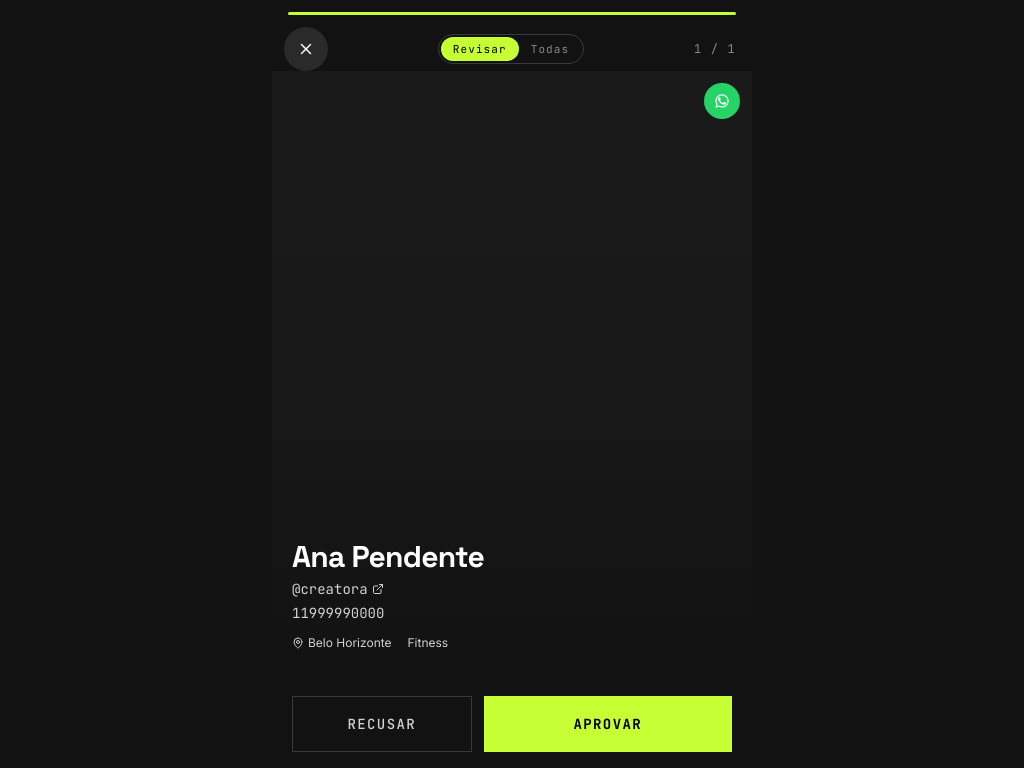
it: CampaignPipelineMobileStory — modo "Todas" (paridade com o desktop) › lista toda candidatura com o rótulo de status em português
Step 1. Click the button "Todas" → (550, 49), box [519,37,581,61]
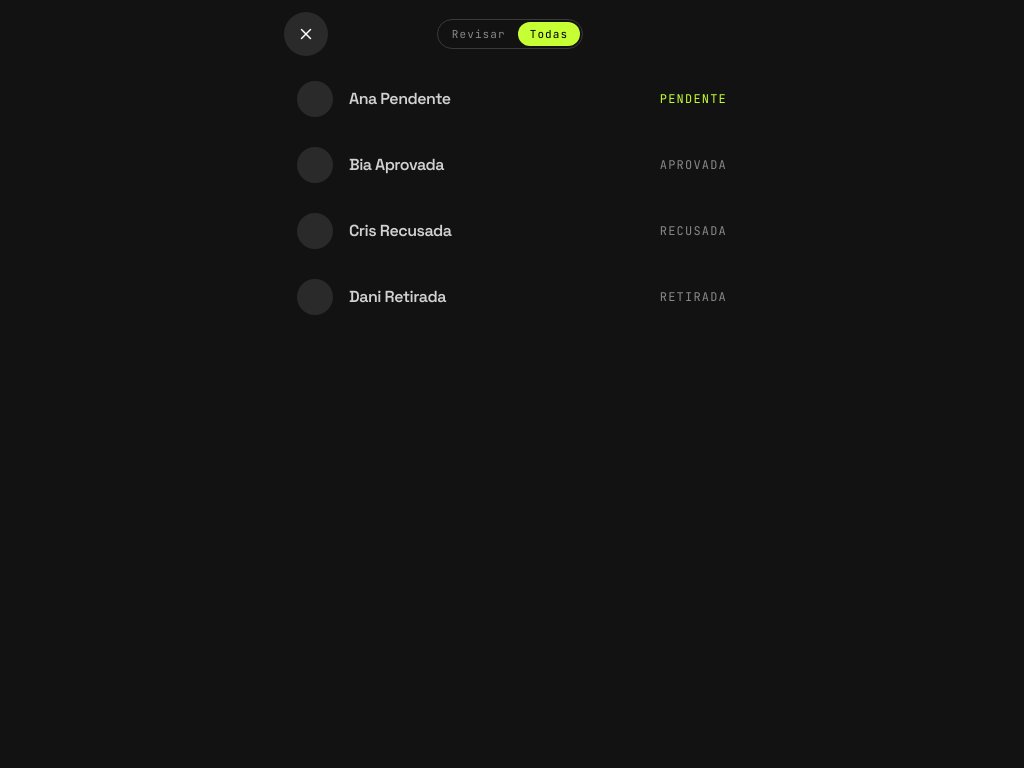
Check: the text "Bia Aprovada" is shown, box [349,154,444,175]
Check: the text "Cris Recusada" is shown, box [349,220,452,241]
Check: the text "Dani Retirada" is shown, box [349,286,446,307]
